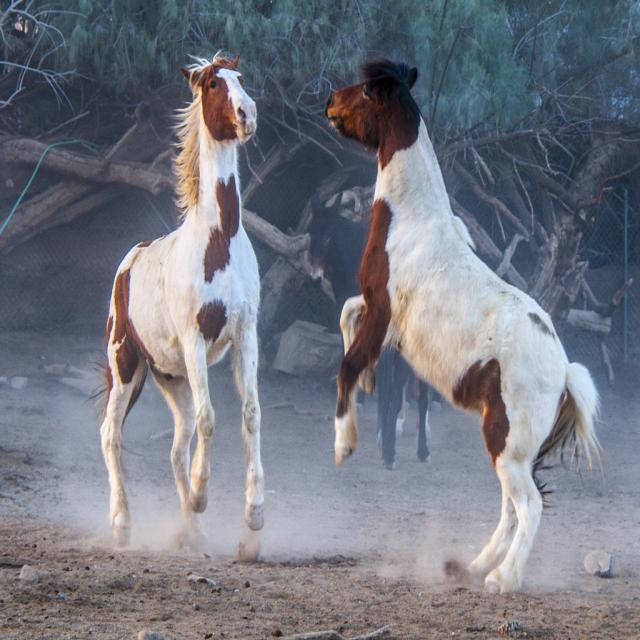Horse: (323, 57, 608, 603), (90, 47, 259, 554)
